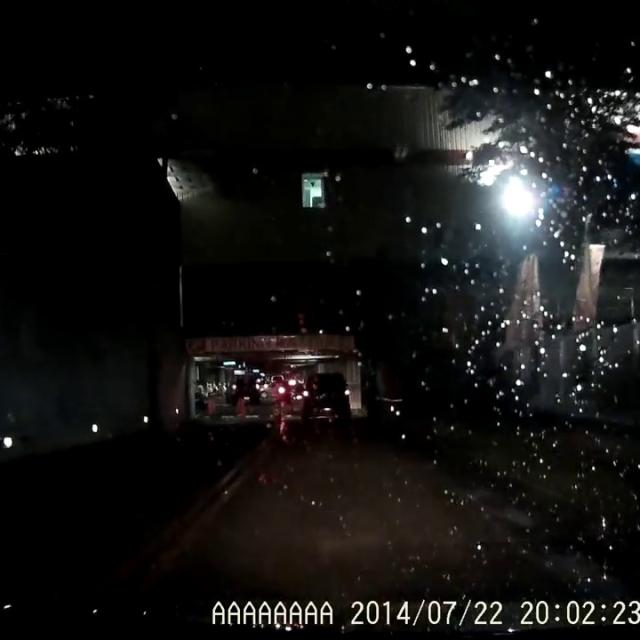Car: (287, 370, 352, 419), (223, 369, 259, 402)
